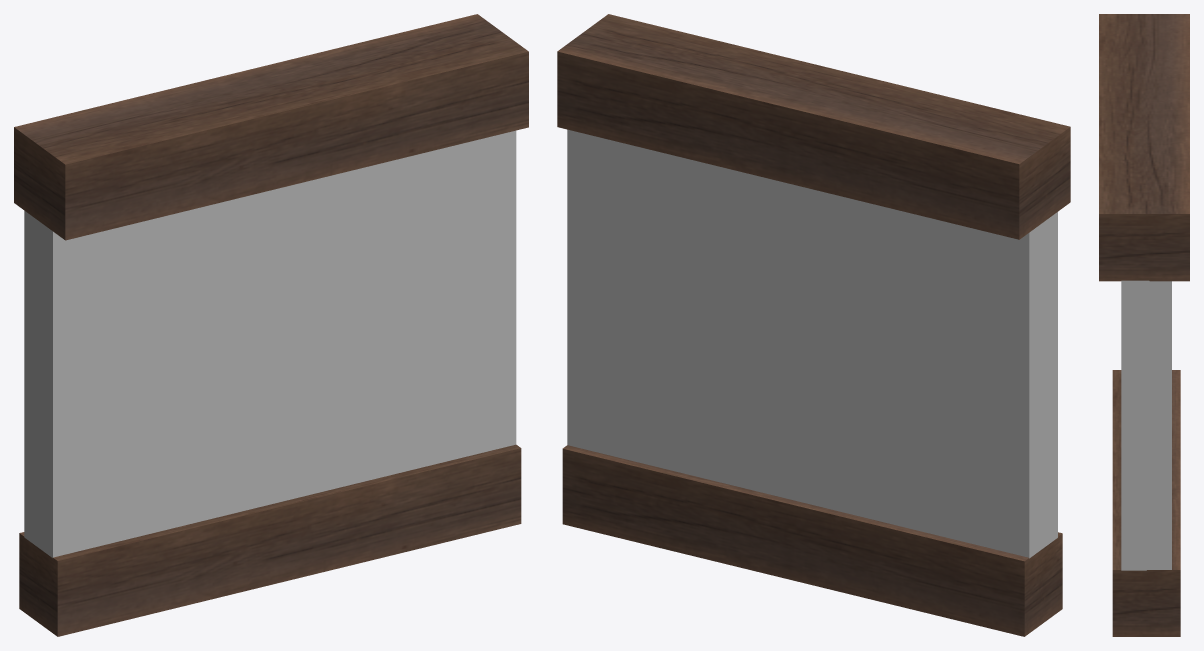
File: yane_frame_0t_1f_4.fbx
3 views of the same model, side by side, from view 1: azimuth 30°, elevation 25°; view 2: azimuth 150°, elevation 25°; view 3: azimuth 270°, elevation 25° (orthographic). The views are drawn at different scales.
Parts seen in each view (by area): view 1: yane_frame_0t_1f_4; view 2: yane_frame_0t_1f_4; view 3: yane_frame_0t_1f_4.
Boxes of the visible parts, x1,y1,x2,y2 form: yane_frame_0t_1f_4: (14,14,528,636); yane_frame_0t_1f_4: (557,14,1070,636); yane_frame_0t_1f_4: (1099,14,1189,636).
Bounding box in the file's own units: 110 × 109 × 21.16.
